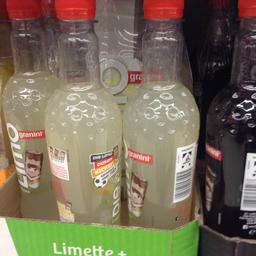soda: (41, 0, 122, 224), (122, 0, 200, 226), (204, 1, 254, 240), (0, 0, 53, 218)
